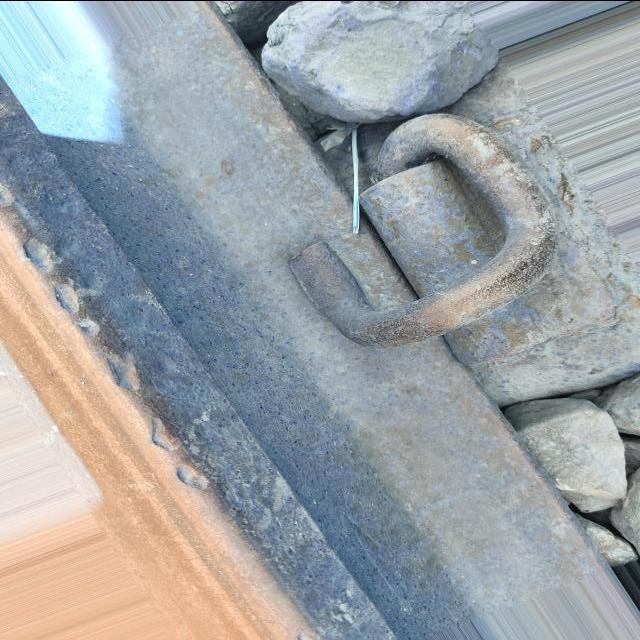broken_rail_medium: (100, 347, 144, 393), (20, 235, 58, 273), (148, 416, 180, 454), (49, 283, 83, 316), (175, 462, 211, 490), (71, 316, 103, 342), (293, 632, 317, 640)
